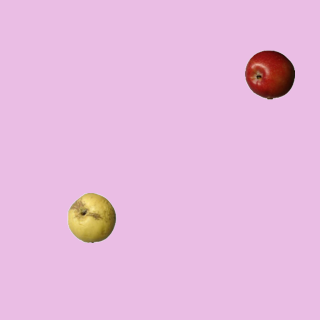Apple Braeburn: (244, 49, 294, 99)
Apple Golden 1: (66, 192, 116, 242)
